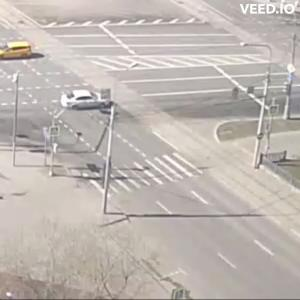car: (61, 89, 112, 113), (1, 41, 36, 61)
